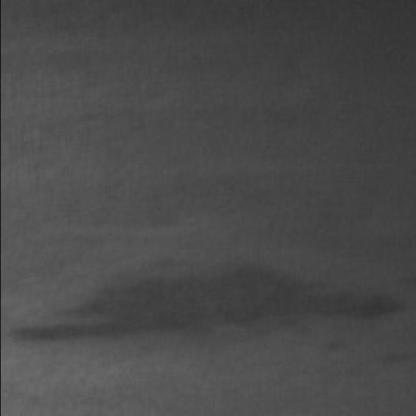inclusion: (8, 260, 412, 350)
